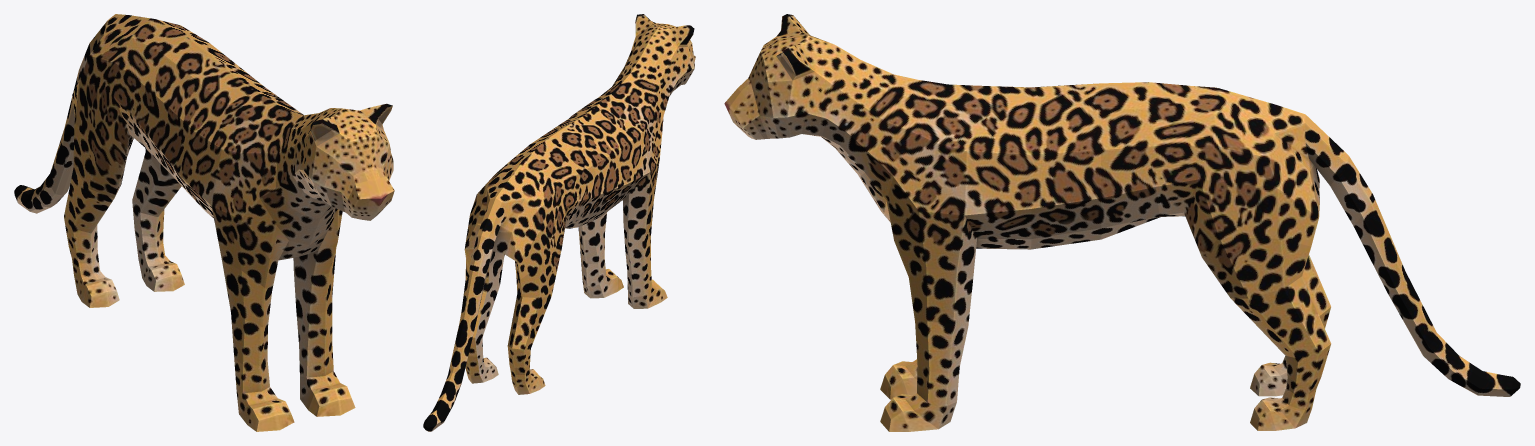
The model's file is jaguar.glb.
3 views of the same model, side by side, from view 1: azimuth 30°, elevation 25°; view 2: azimuth 150°, elevation 25°; view 3: azimuth 270°, elevation 25° (orthographic). The views are drawn at different scales.
Parts seen in each view (by area): view 1: Jaguar_mesh; view 2: Jaguar_mesh; view 3: Jaguar_mesh.
Part boxes in pixels (x1=…): Jaguar_mesh: x1=14, y1=14, x2=394, y2=431; Jaguar_mesh: x1=423, y1=14, x2=695, y2=431; Jaguar_mesh: x1=724, y1=14, x2=1520, y2=431.
Bounding box in the file's own units: 2.51 × 6.84 × 13.22.
1 material, 1 textured.
